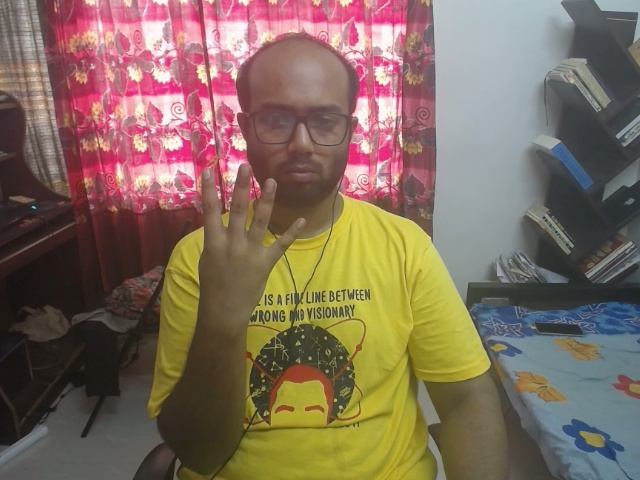four: (157, 148, 328, 321)
